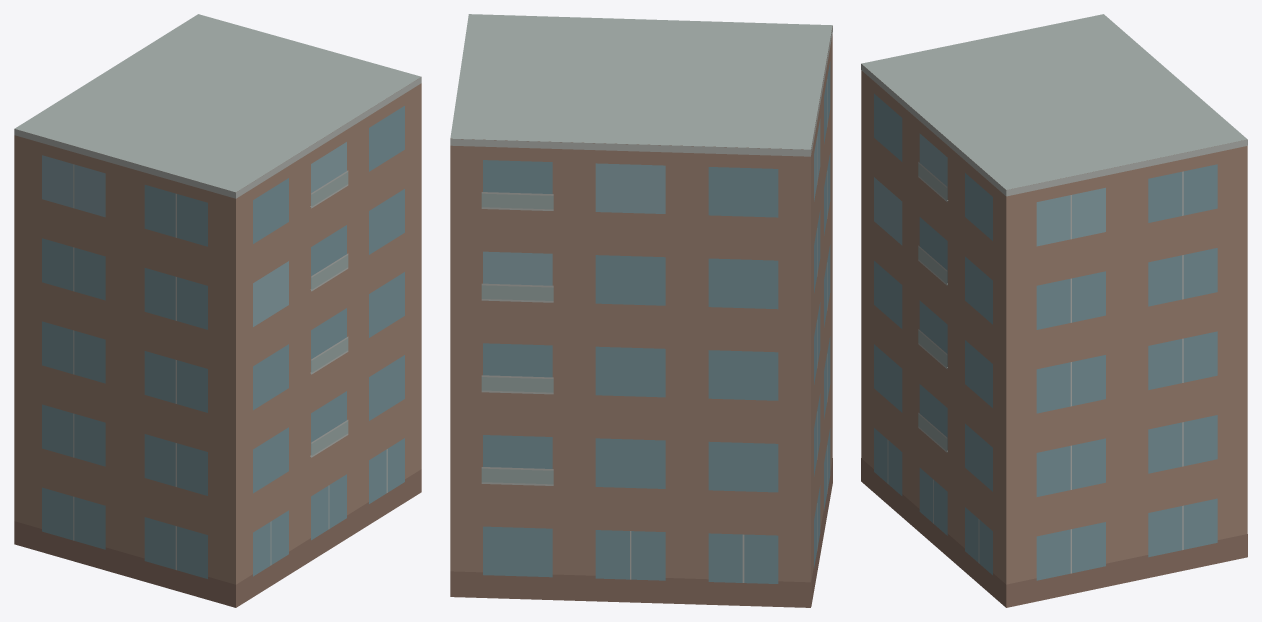
The model's file is survey-upis-32952130.glb.
3 renders of one model, left to right at view 1: azimuth 30°, elevation 25°; view 2: azimuth 150°, elevation 25°; view 3: azimuth 270°, elevation 25°, orthographic. The views are drawn at different scales.
Visible parts, largest first — view 1: survey-upis-32952130.tmp; view 2: survey-upis-32952130.tmp; view 3: survey-upis-32952130.tmp.
Boxes of the visible parts, x1,y1,x2,y2 form: survey-upis-32952130.tmp: (14,14,421,607); survey-upis-32952130.tmp: (450,14,832,607); survey-upis-32952130.tmp: (861,14,1247,607).
Bounding box in the file's own units: 14.38 × 15.9 × 13.34.
